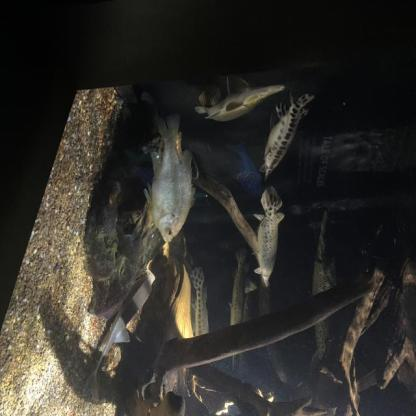fish: (144, 112, 197, 244), (308, 206, 341, 372), (258, 90, 316, 182), (193, 73, 286, 124), (252, 184, 286, 286), (228, 247, 258, 339), (224, 140, 264, 200), (189, 265, 210, 347)
shark: (81, 268, 156, 402)
